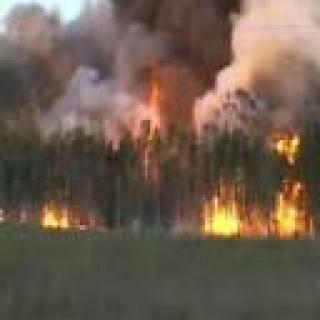fire: (200, 140, 316, 238), (138, 75, 170, 168), (40, 202, 85, 228)
